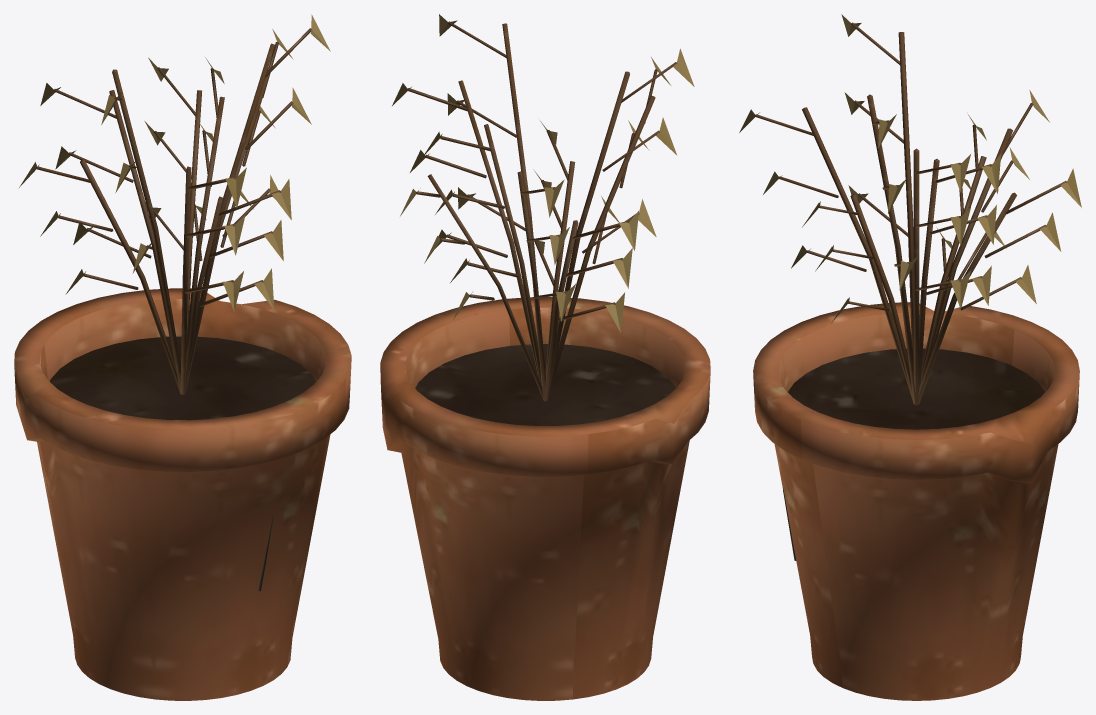
File: by_planter_dead.glb
3 renders of one model, left to right at view 1: azimuth 30°, elevation 25°; view 2: azimuth 150°, elevation 25°; view 3: azimuth 270°, elevation 25°, orthographic. The views are drawn at different scales.
Parts seen in each view (by area): view 1: by_planter_dead; view 2: by_planter_dead; view 3: by_planter_dead.
Part boxes in pixels (x1,y1,x2,y2): by_planter_dead: (14,14,351,700); by_planter_dead: (380,14,710,700); by_planter_dead: (739,14,1081,700).
Size of the model in its own units: 0.4644 by 0.9393 by 0.4874.
Materials: 1 (1 with a texture image).
